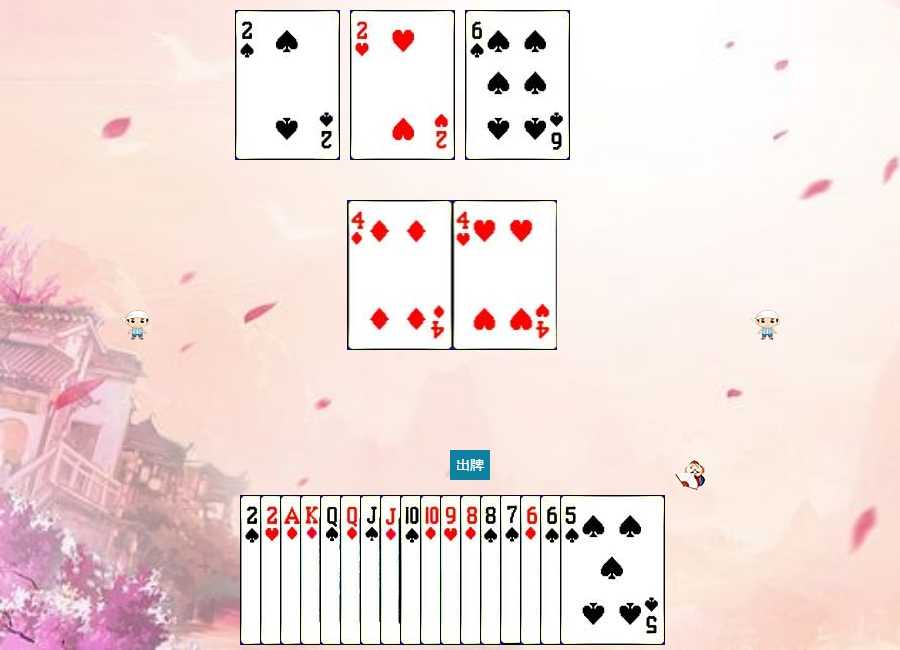10~1: (420, 495, 525, 645)
10~4: (400, 495, 505, 645)
11~1: (380, 495, 485, 645)
11~4: (360, 495, 465, 645)
12~1: (340, 495, 445, 645)
12~4: (320, 495, 425, 645)
13~1: (300, 495, 405, 645)
14~1: (280, 495, 385, 645)
15~3: (350, 10, 455, 160), (260, 495, 365, 645)
15~4: (235, 10, 340, 160), (240, 495, 345, 645)
4~1: (348, 200, 453, 350)
4~3: (453, 200, 558, 350)
5~4: (560, 495, 665, 645)
6~1: (520, 495, 625, 645)
6~4: (465, 10, 570, 160), (540, 495, 645, 645)
7~4: (500, 495, 605, 645)
8~1: (460, 495, 565, 645)
8~4: (480, 495, 585, 645)
9~3: (440, 495, 545, 645)
